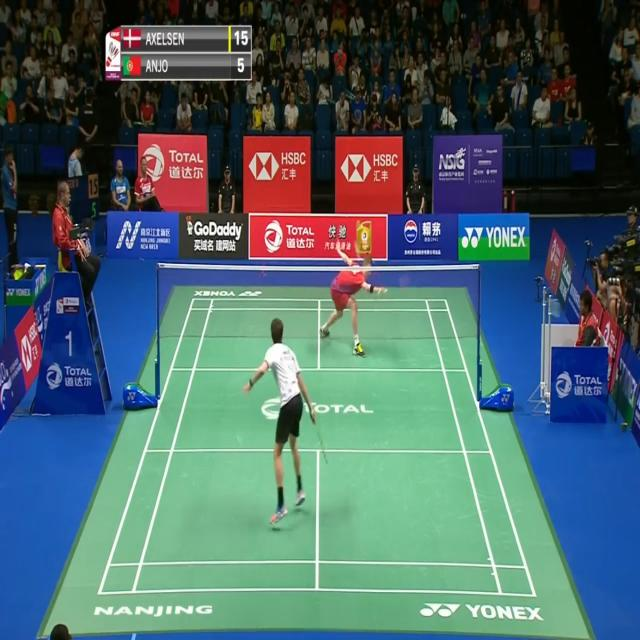Player1: (239, 307, 333, 537)
Player2: (317, 225, 393, 364)
